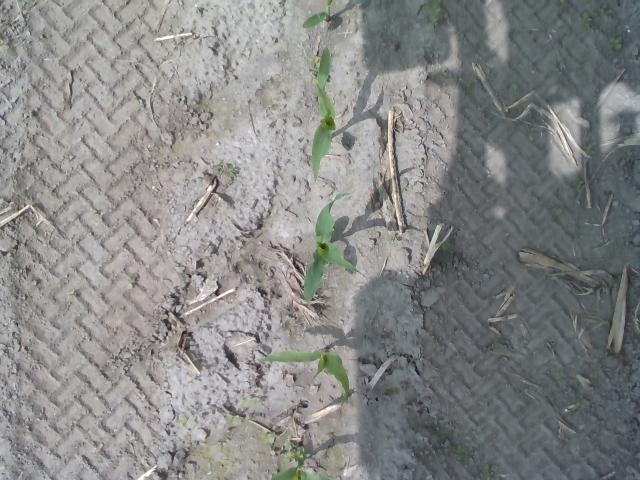Maize: (303, 190, 372, 304), (263, 349, 350, 408), (310, 44, 338, 184), (268, 451, 329, 480), (302, 0, 333, 28)
Weeds: (422, 1, 442, 23), (479, 462, 499, 480), (281, 443, 295, 464), (222, 165, 239, 176), (609, 37, 622, 50), (306, 57, 320, 69), (262, 431, 274, 442), (308, 73, 318, 86), (579, 13, 593, 22), (584, 144, 596, 154)
